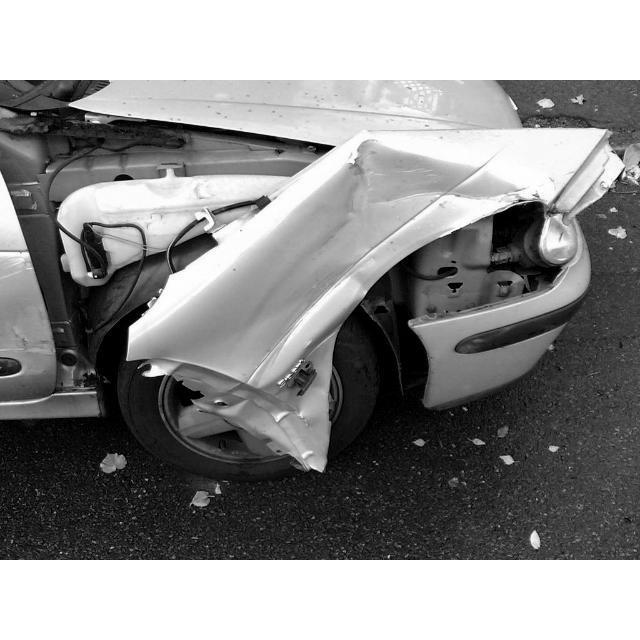fender-dent: (43, 128, 553, 328)
